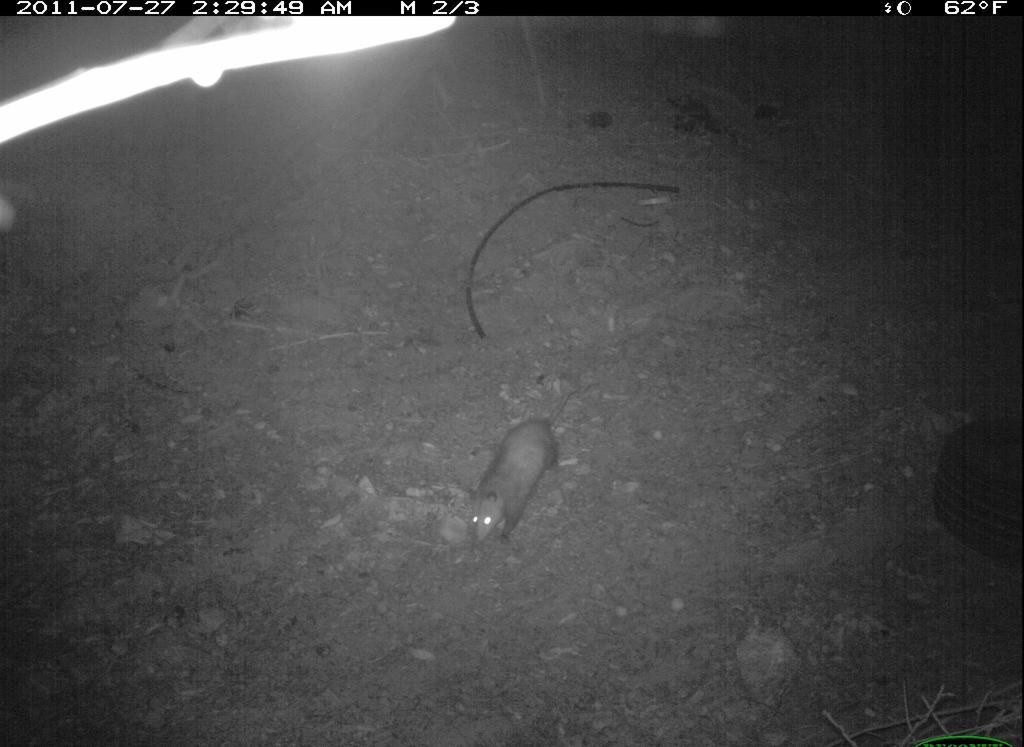opossum: (468, 390, 579, 548)
